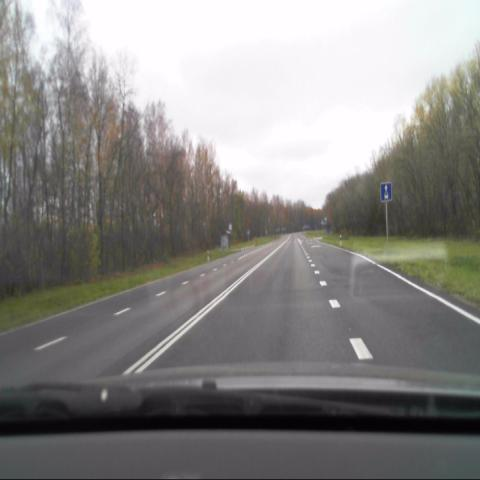5_14: (380, 181, 392, 202)
